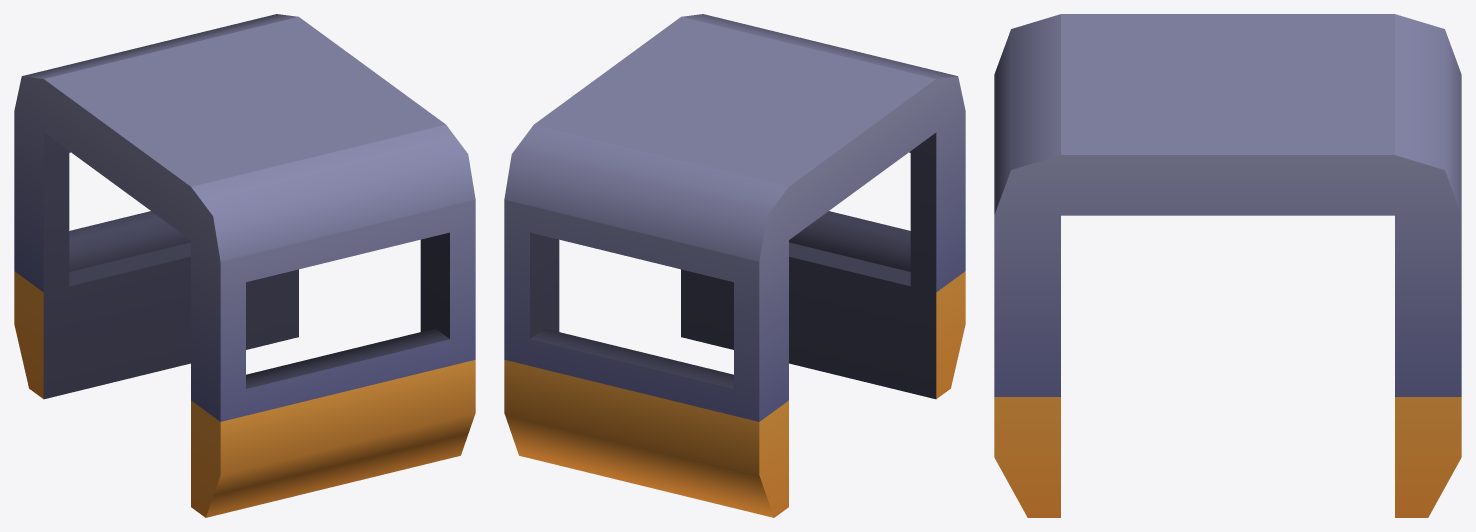
File: cover-stripe-window.glb
3 views of the same model, side by side, from view 1: azimuth 30°, elevation 25°; view 2: azimuth 150°, elevation 25°; view 3: azimuth 270°, elevation 25° (orthographic). The views are drawn at different scales.
Parts seen in each view (by area): view 1: cover-stripe-window; view 2: cover-stripe-window; view 3: cover-stripe-window.
Part boxes in pixels (x1,y1,x2,y2): cover-stripe-window: (14, 14, 475, 517); cover-stripe-window: (504, 14, 965, 517); cover-stripe-window: (994, 14, 1461, 517).
Size of the model in its own units: 1 by 1.2 by 1.4.
